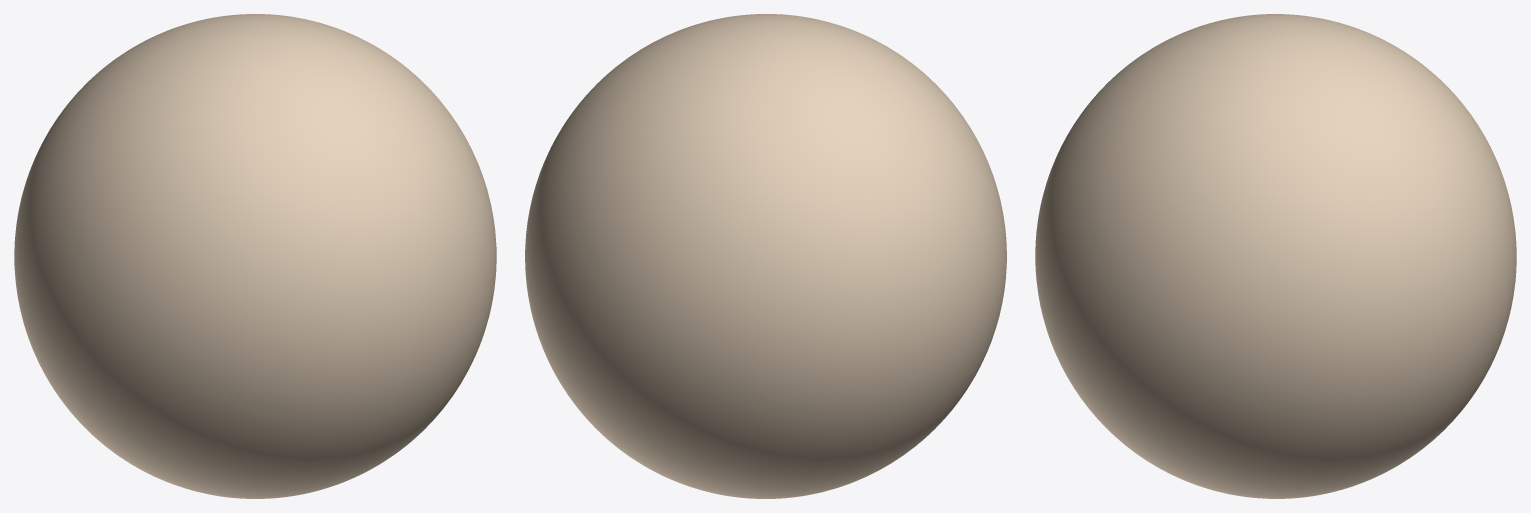
The model's file is jupiter.glb.
3 views of the same model, side by side, from view 1: azimuth 30°, elevation 25°; view 2: azimuth 150°, elevation 25°; view 3: azimuth 270°, elevation 25° (orthographic).
Visible parts, largest first — view 1: Jupiter_Body; view 2: Jupiter_Body; view 3: Jupiter_Body.
Boxes of the visible parts, box(x1,y1,x2,y2) form: Jupiter_Body: box(14, 14, 496, 498); Jupiter_Body: box(525, 14, 1006, 498); Jupiter_Body: box(1035, 14, 1516, 498).
Bounding box in the file's own units: 1.97 × 1.99 × 1.97.
